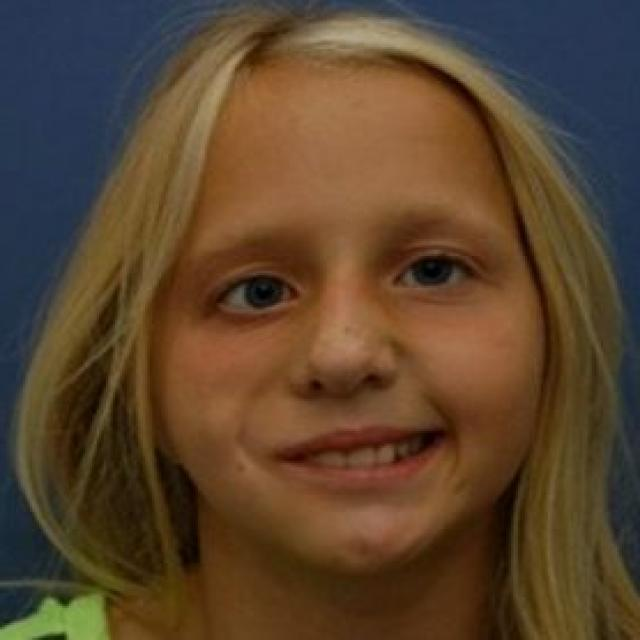stroke_face: (105, 11, 547, 588)
